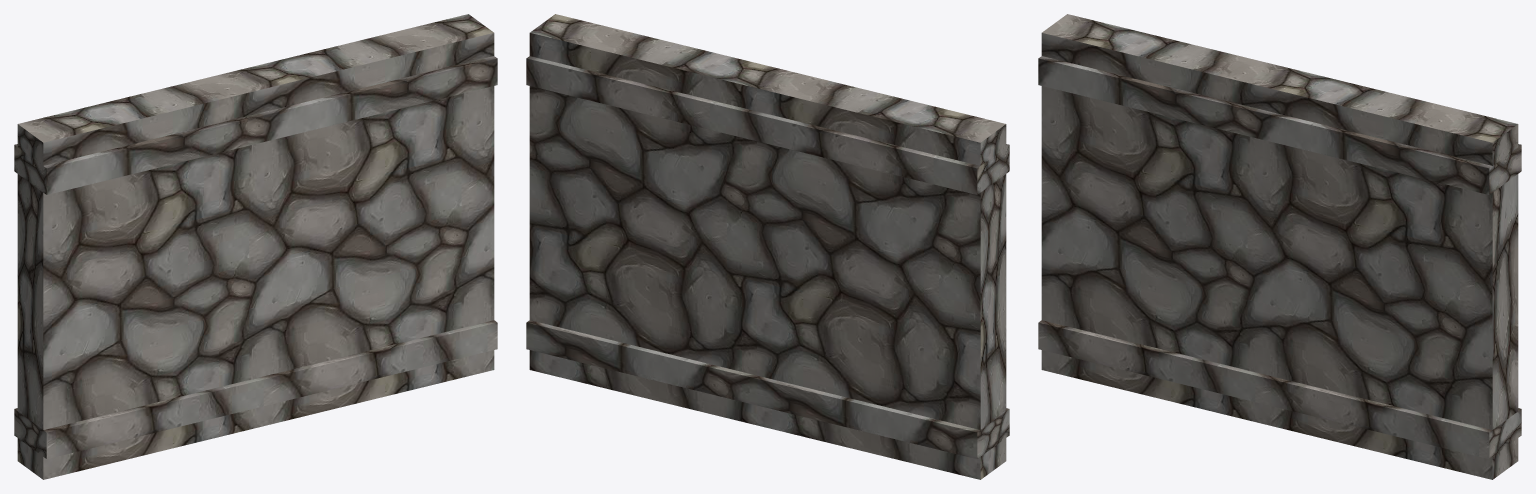
File: portal floresta.FBX
3 renders of one model, left to right at view 1: azimuth 30°, elevation 25°; view 2: azimuth 150°, elevation 25°; view 3: azimuth 330°, elevation 25°, orthographic.
Visible parts, largest first — view 1: Box001; view 2: Box001; view 3: Box001.
Part boxes in pixels (left/top/right/bottom): Box001: left=14, top=14, right=497, bottom=479; Box001: left=526, top=14, right=1009, bottom=479; Box001: left=1038, top=14, right=1521, bottom=479.
Bounding box in the file's own units: 252 × 180 × 31.36.
